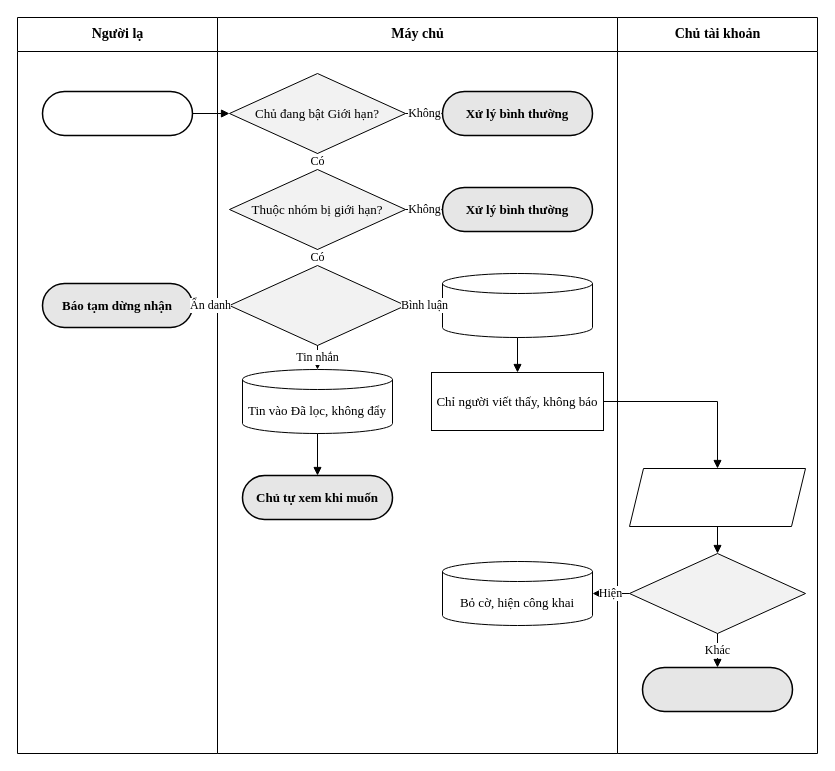
The diagram is 835 pixels wide and 771 high, and some of its shapes have lost their labels. The shapes that lost their labels are listed below. From the top down, each one's centre as x and y in pixels, then its label:
At point 117,113: "Bình luận hoặc nhắn tin".
At point 317,305: "Loại nội dung?".
At point 517,305: "Lưu bình luận, cờ LIMITS".
At point 717,497: "Mục Bình luận bị ẩn".
At point 717,593: "Chủ chọn?".
At point 717,689: "Xóa hoặc để ẩn".
